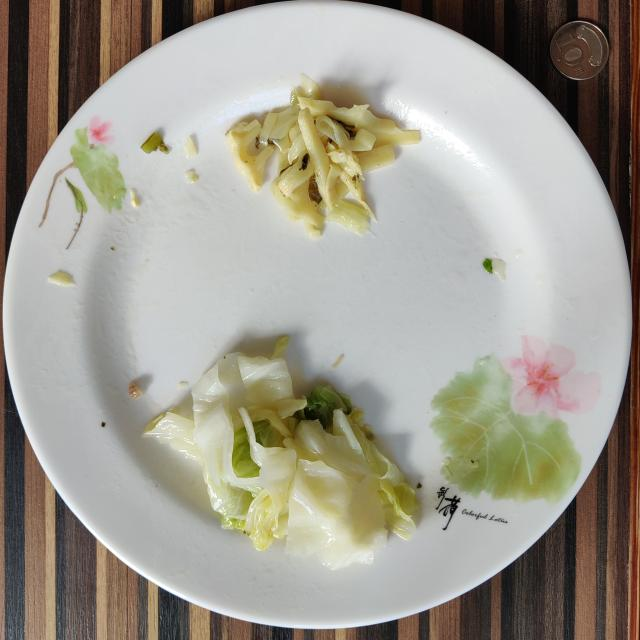cabbage: (144, 339, 418, 569)
coin: (550, 21, 609, 80)
